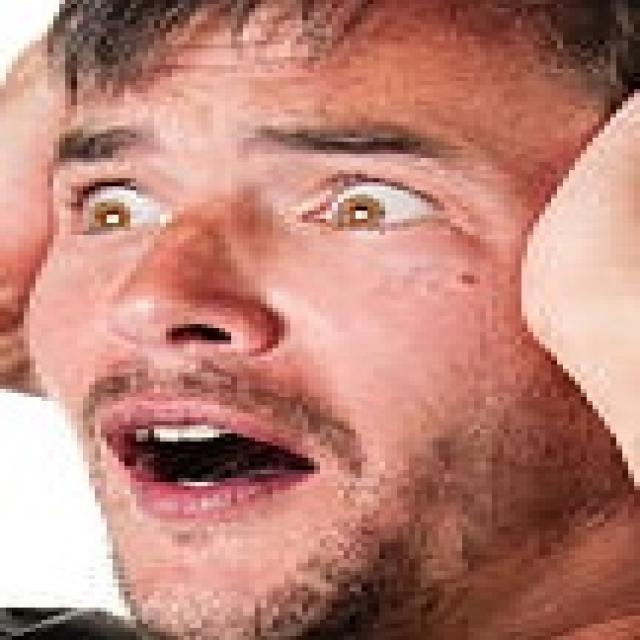Anxiety: (19, 3, 619, 636)
